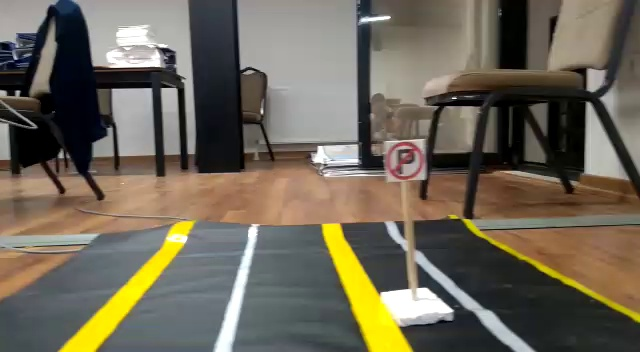park_yapilmaz: (387, 137, 428, 178)
